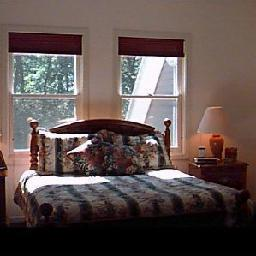Cama: (18, 123, 245, 237)
